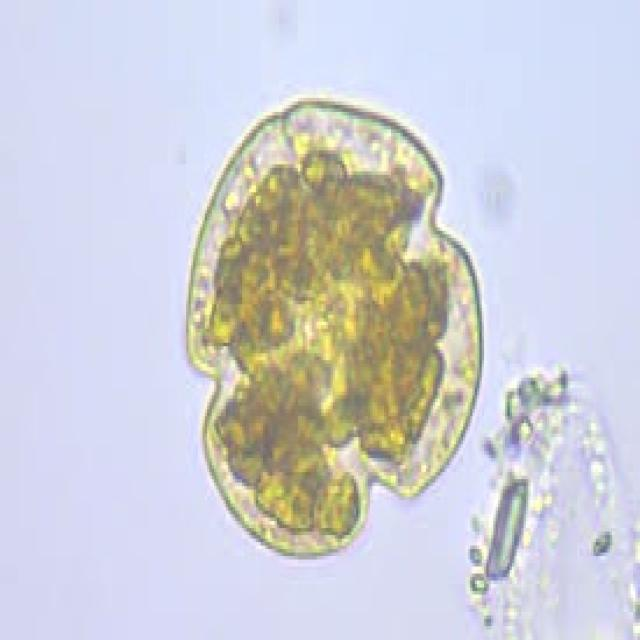Karenia: (179, 109, 495, 561)
